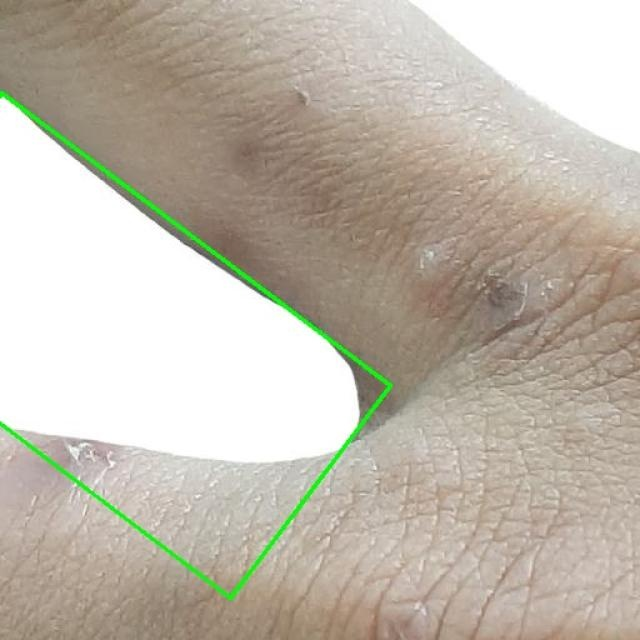Scabies: (0, 16, 432, 598)
